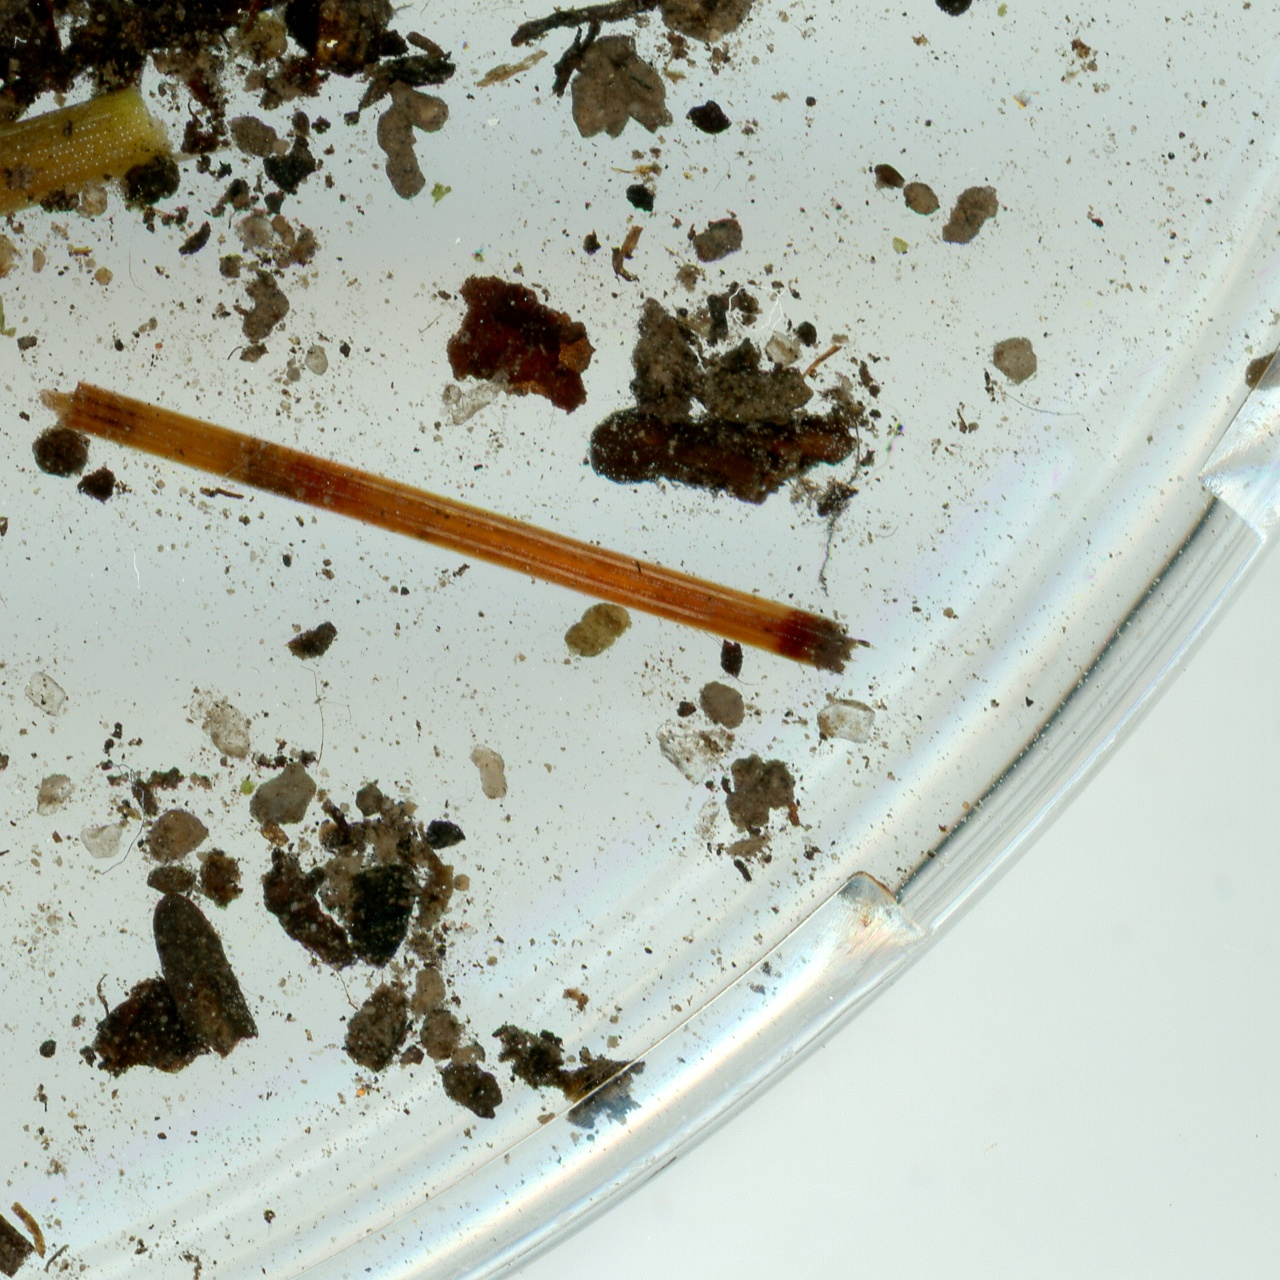arthropod: (177, 0, 331, 35), (203, 0, 307, 34), (1246, 346, 1280, 391)
